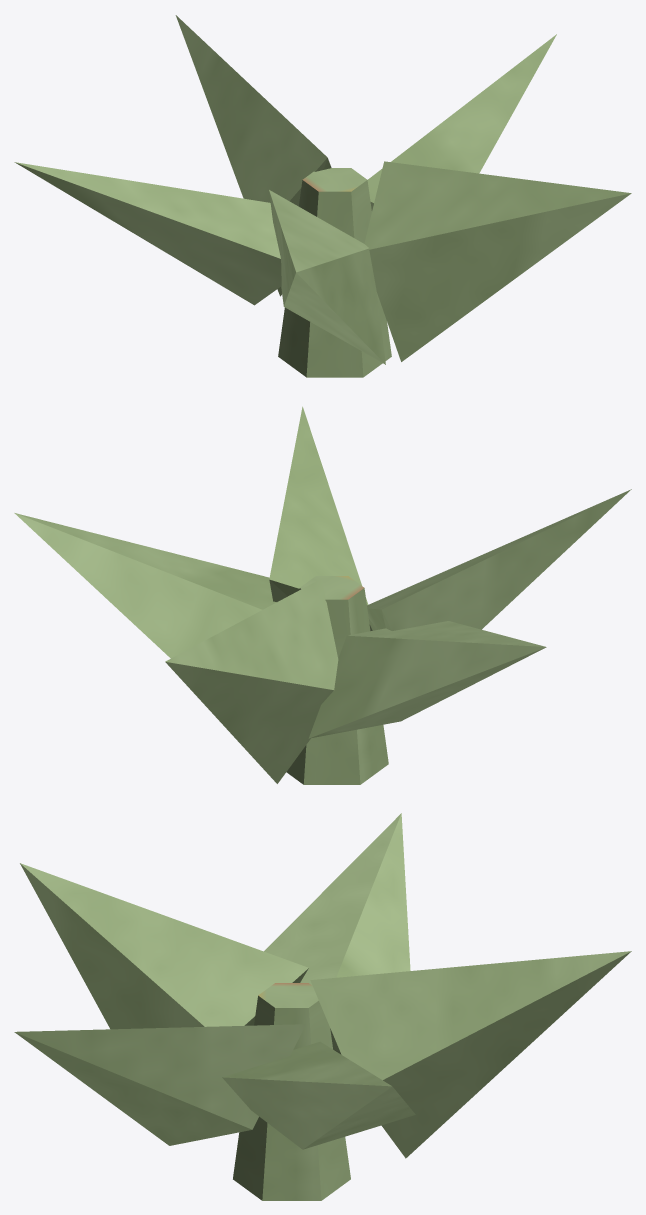
Rendered from sm_crop_pumpkin_3.glb.
3 renders of one model, top to bottom at view 1: azimuth 30°, elevation 25°; view 2: azimuth 150°, elevation 25°; view 3: azimuth 270°, elevation 25°, orthographic. The views are drawn at different scales.
Parts seen in each view (by area): view 1: sm_crop_pumpkin_3; view 2: sm_crop_pumpkin_3; view 3: sm_crop_pumpkin_3.
Boxes of the visible parts, x1=… form: sm_crop_pumpkin_3: x1=14, y1=15, x2=631, y2=377; sm_crop_pumpkin_3: x1=14, y1=406, x2=631, y2=784; sm_crop_pumpkin_3: x1=14, y1=813, x2=631, y2=1200.
Bounding box in the file's own units: 0.2934 × 0.1152 × 0.2803.
1 material, 1 textured.
